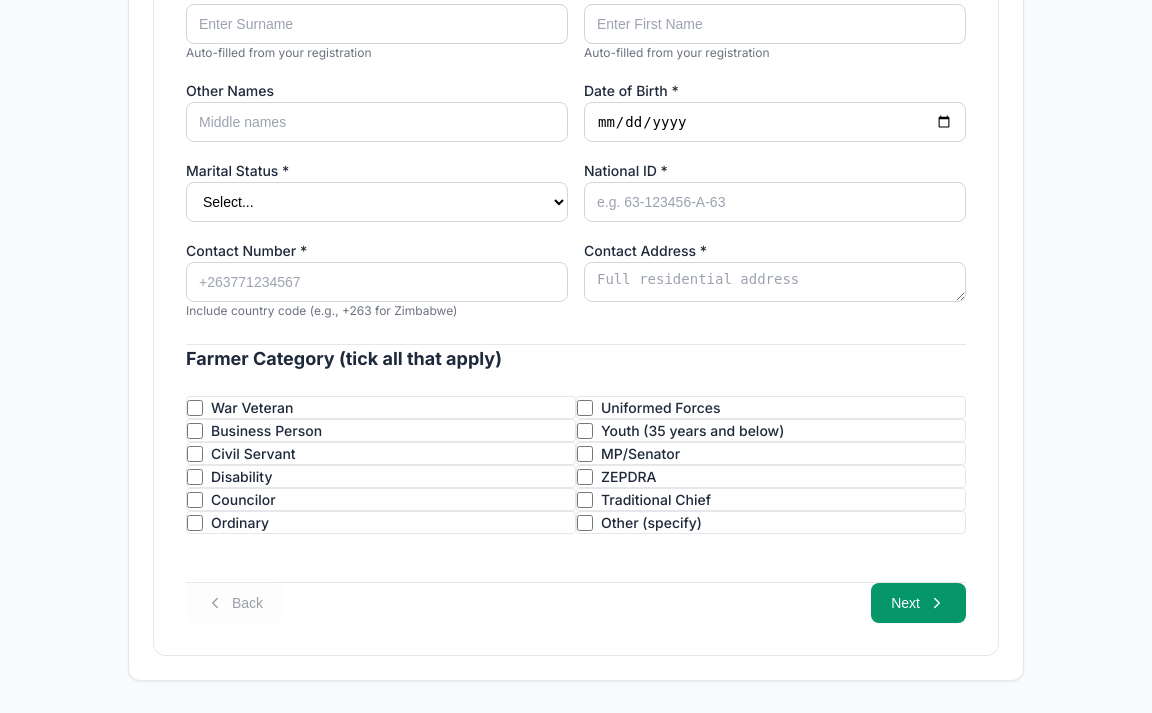
ApplicationForm - Years of Service › should show years of service field when Uniformed Forces is checked
(page scrolled)
# Check Uniformed Forces checkbox
Click the text "Uniformed Forces" at (661, 408), box [601,397,720,418]
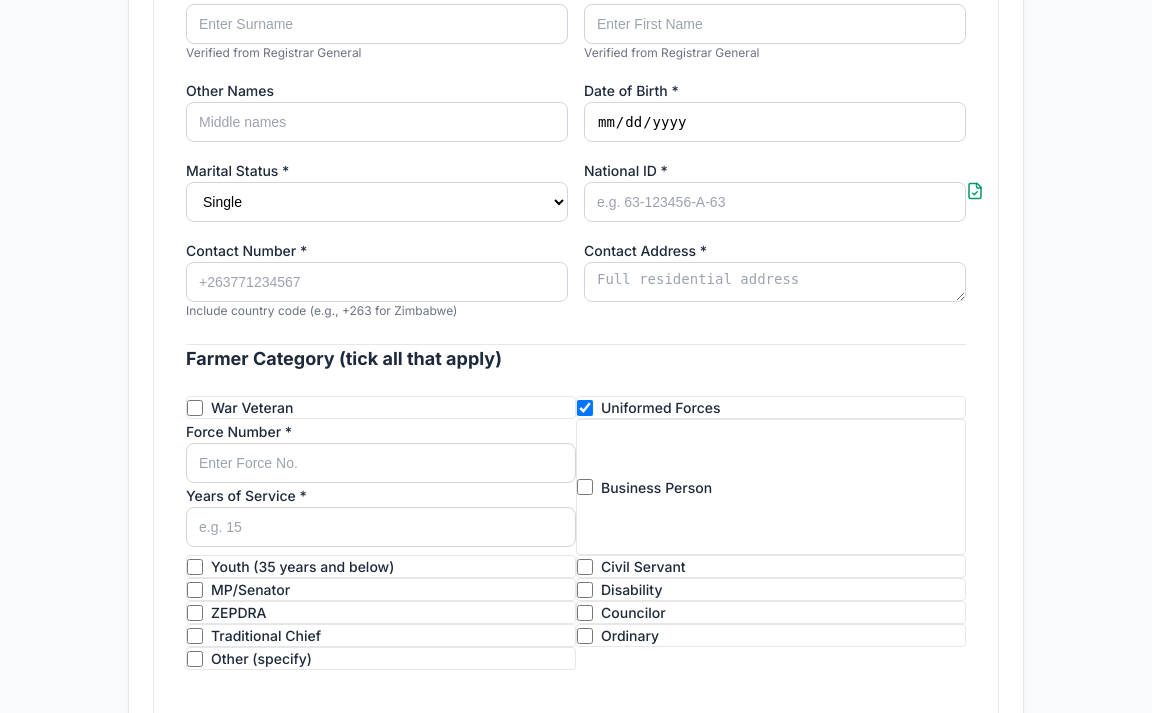
Expected: the text "Years of Service *" is shown, [186,487,307,504]
